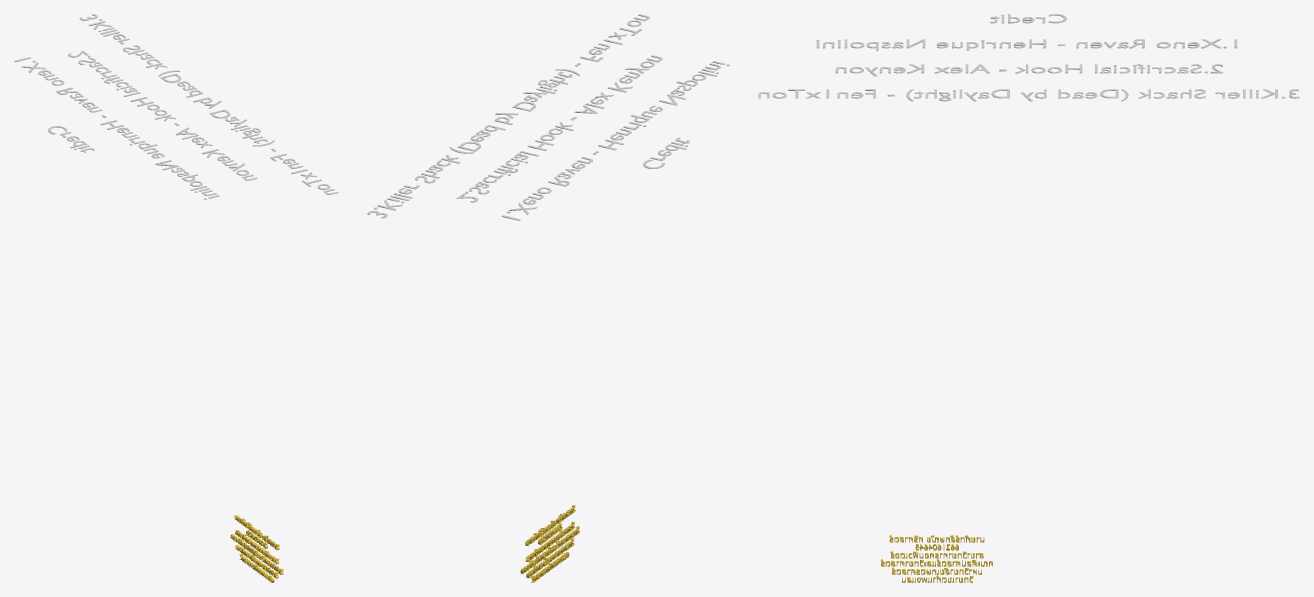
Rendered from name_credit.glb.
The picture shows the model from 3 angles, left to right: view 1: azimuth 30°, elevation 25°; view 2: azimuth 150°, elevation 25°; view 3: azimuth 270°, elevation 25°; orthographic projection. The views are drawn at different scales.
Visible parts, largest first — view 1: Text.011, Text.012; view 2: Text.011, Text.012; view 3: Text.011, Text.012.
Boxes of the visible parts, box(x1,y1,x2,y2) form: Text.011: box(14, 14, 338, 199); Text.012: box(230, 515, 283, 582); Text.011: box(367, 14, 729, 220); Text.012: box(520, 505, 579, 582); Text.011: box(758, 14, 1299, 101); Text.012: box(881, 535, 992, 582).
Size of the model in its own units: 6.92 by 18.04 by 18.24.
